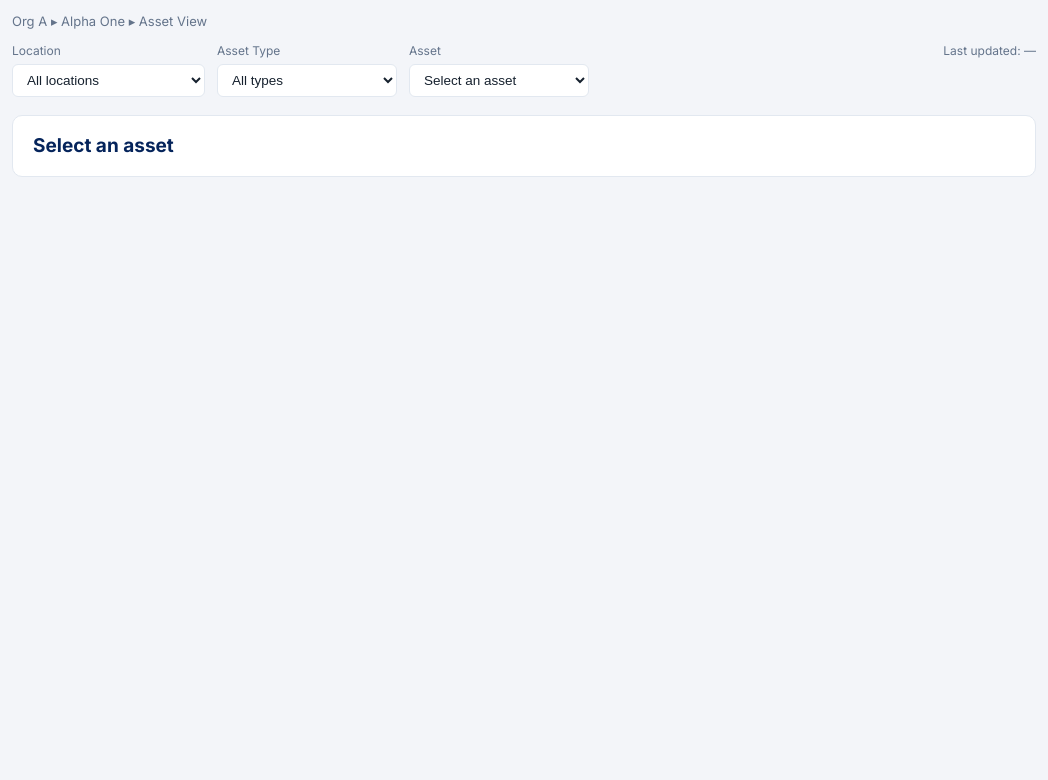
AssetView › regression: a REST snapshot resolving after live telemetry must not overwrite it
The image size is (1048, 780).
Select "AHU 01" in the dropdown with test id "filter-asset": (499, 80) 409,64 -> 589,96
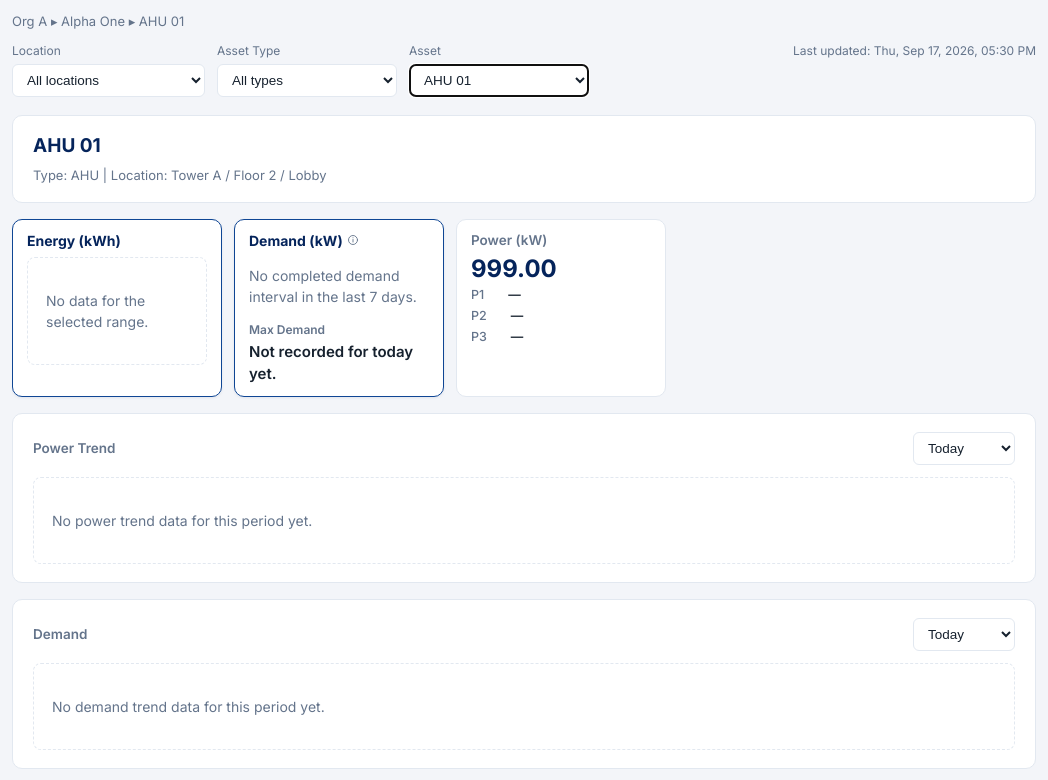
Expected: the element with test id "live-param-active_power" shows "999.00", 471,254 -> 557,283
